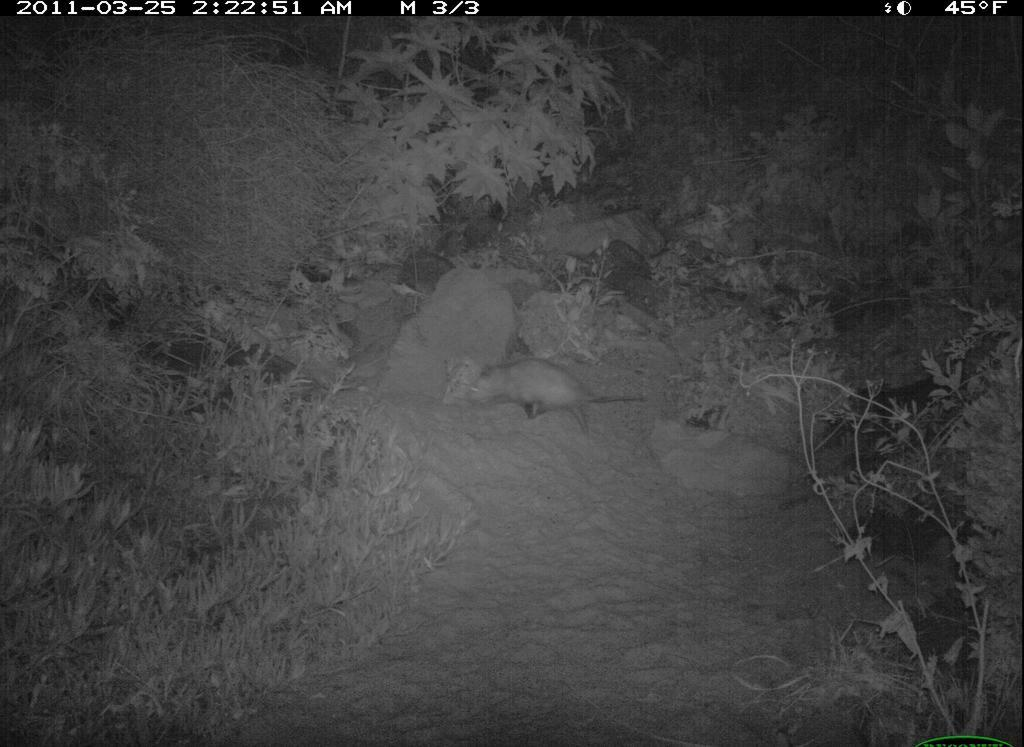opossum: (450, 346, 658, 466)
